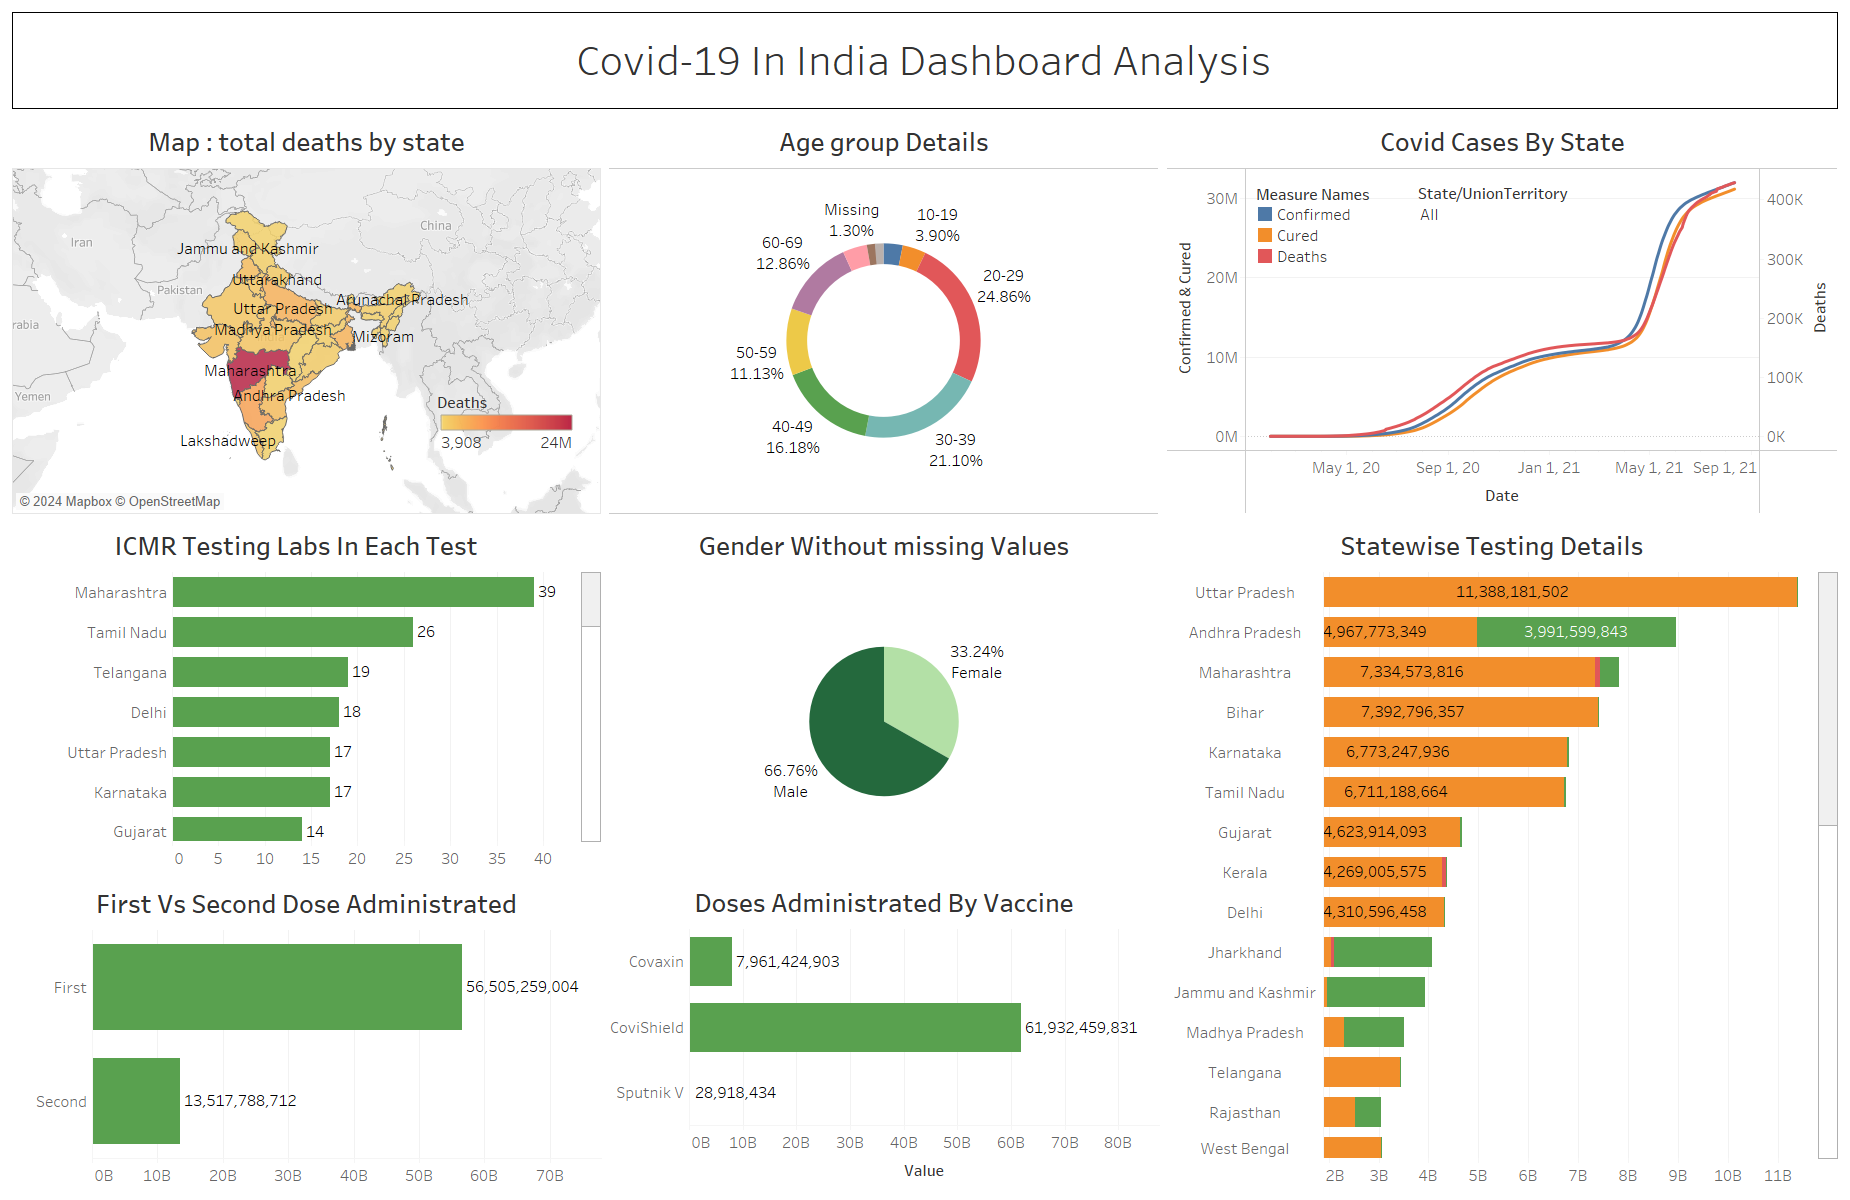

This screenshot's page, from the dashboard's own definition file:
{"tool":"tableau","page":{"name":"Dashboard 1","canvas":[1850,1200],"ordinal":0},"visuals":[{"type":"worksheet","title":"Title","mark":"Automatic","box":[8,8,1834,106]},{"type":"worksheet","title":"Map : total deaths by state","mark":"Automatic","box":[8,114,597,404.2]},{"type":"worksheet","title":"Age group Details","mark":"Pie","rows":["Calculation_829225340611698690","Calculation_829225340611698690"],"box":[605,114,558,404.4]},{"type":"worksheet","title":"Covid Cases By State","mark":"Automatic","rows":["Deaths"],"cols":["Date"],"box":[1163,114,679,404.4]},{"type":"legend","title":"Covid Cases By State","param":"[federated.0zpix1e0bip4y01h03vy51fe9flq].[:Measure Names]","box":[1255,182,148,85]},{"type":"filter","title":"Covid Cases By State","param":"[federated.0zpix1e0bip4y01h03vy51fe9flq].[none:State/UnionTerritory:nk]","box":[1418,182,162,76]},{"type":"legend","title":"Map : total deaths by state","param":"[federated.0zpix1e0bip4y01h03vy51fe9flq].[sum:Deaths:qk]","box":[437,388,140,88]},{"type":"worksheet","title":"ICMR Testing Labs In Each Test","mark":"Automatic","rows":["state"],"cols":["lab"],"box":[8,518.2,597,357.4]},{"type":"worksheet","title":"Gender Without missing Values","mark":"Pie","box":[605,518.4,558,356.8]},{"type":"worksheet","title":"Statewise Testing Details","mark":"Automatic","rows":["State"],"box":[1163,518.4,679,673.5]},{"type":"worksheet","title":"Doses Administrated By Vaccine","mark":"Automatic","box":[605,875.3,558,316.7]},{"type":"worksheet","title":"First Vs Second Dose Administrated","mark":"Automatic","box":[8,875.6,597,316.4]}]}

Visuals, with their boxes in screenshot pixels (x1, y1, x2, y2), scaled from the page's 1850x1200 canvas onto the 1850x1200 screenshot:
"Title" worksheet: pyautogui.locateOnScreen(8, 8, 1842, 114)
"Map : total deaths by state" worksheet: pyautogui.locateOnScreen(8, 114, 605, 518)
"Age group Details" worksheet (Pie marks): pyautogui.locateOnScreen(605, 114, 1163, 518)
"Covid Cases By State" worksheet: pyautogui.locateOnScreen(1163, 114, 1842, 518)
"Covid Cases By State" legend: pyautogui.locateOnScreen(1255, 182, 1403, 267)
"Covid Cases By State" filter: pyautogui.locateOnScreen(1418, 182, 1580, 258)
"Map : total deaths by state" legend: pyautogui.locateOnScreen(437, 388, 577, 476)
"ICMR Testing Labs In Each Test" worksheet: pyautogui.locateOnScreen(8, 518, 605, 876)
"Gender Without missing Values" worksheet (Pie marks): pyautogui.locateOnScreen(605, 518, 1163, 875)
"Statewise Testing Details" worksheet: pyautogui.locateOnScreen(1163, 518, 1842, 1192)
"Doses Administrated By Vaccine" worksheet: pyautogui.locateOnScreen(605, 875, 1163, 1192)
"First Vs Second Dose Administrated" worksheet: pyautogui.locateOnScreen(8, 876, 605, 1192)
